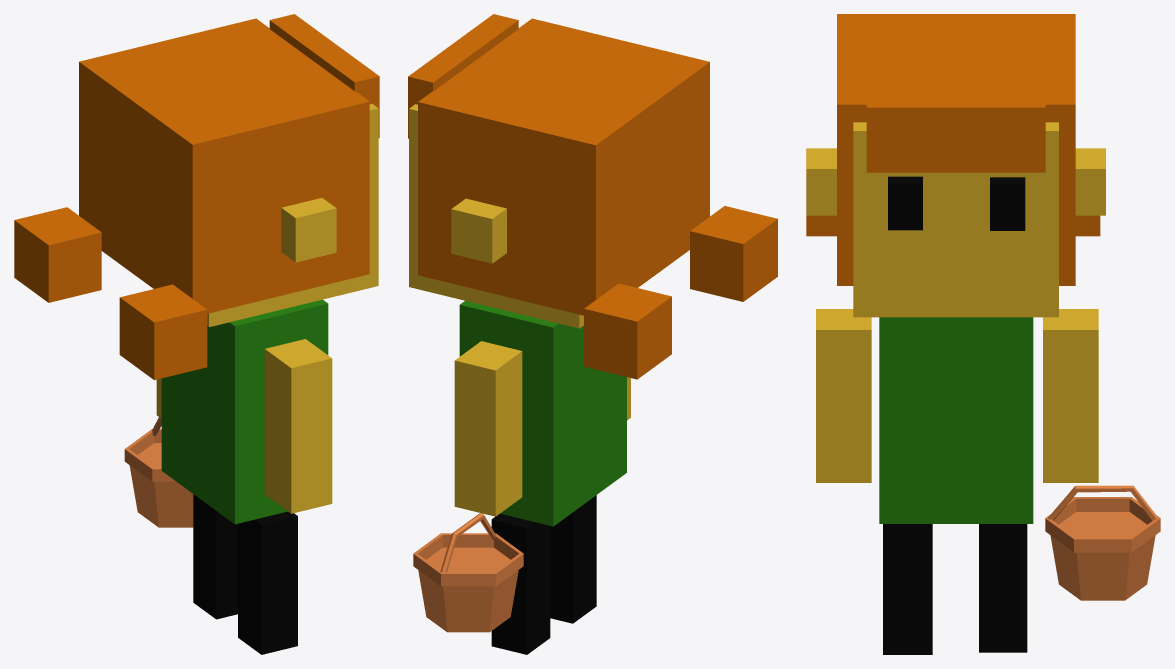
The model's file is Chara-F_buissons.fbx.
3 views of the same model, side by side, from view 1: azimuth 30°, elevation 25°; view 2: azimuth 150°, elevation 25°; view 3: azimuth 270°, elevation 25° (orthographic). The views are drawn at different scales.
Parts seen in each view (by area): view 1: Cube.002; view 2: Cube.002; view 3: Cube.002.
Part boxes in pixels (box(x1,y1,x2,y2)): Cube.002: box(14, 14, 379, 654); Cube.002: box(408, 14, 777, 654); Cube.002: box(806, 14, 1160, 654).
Bounding box in the file's own units: 83.39 × 170 × 93.63.
